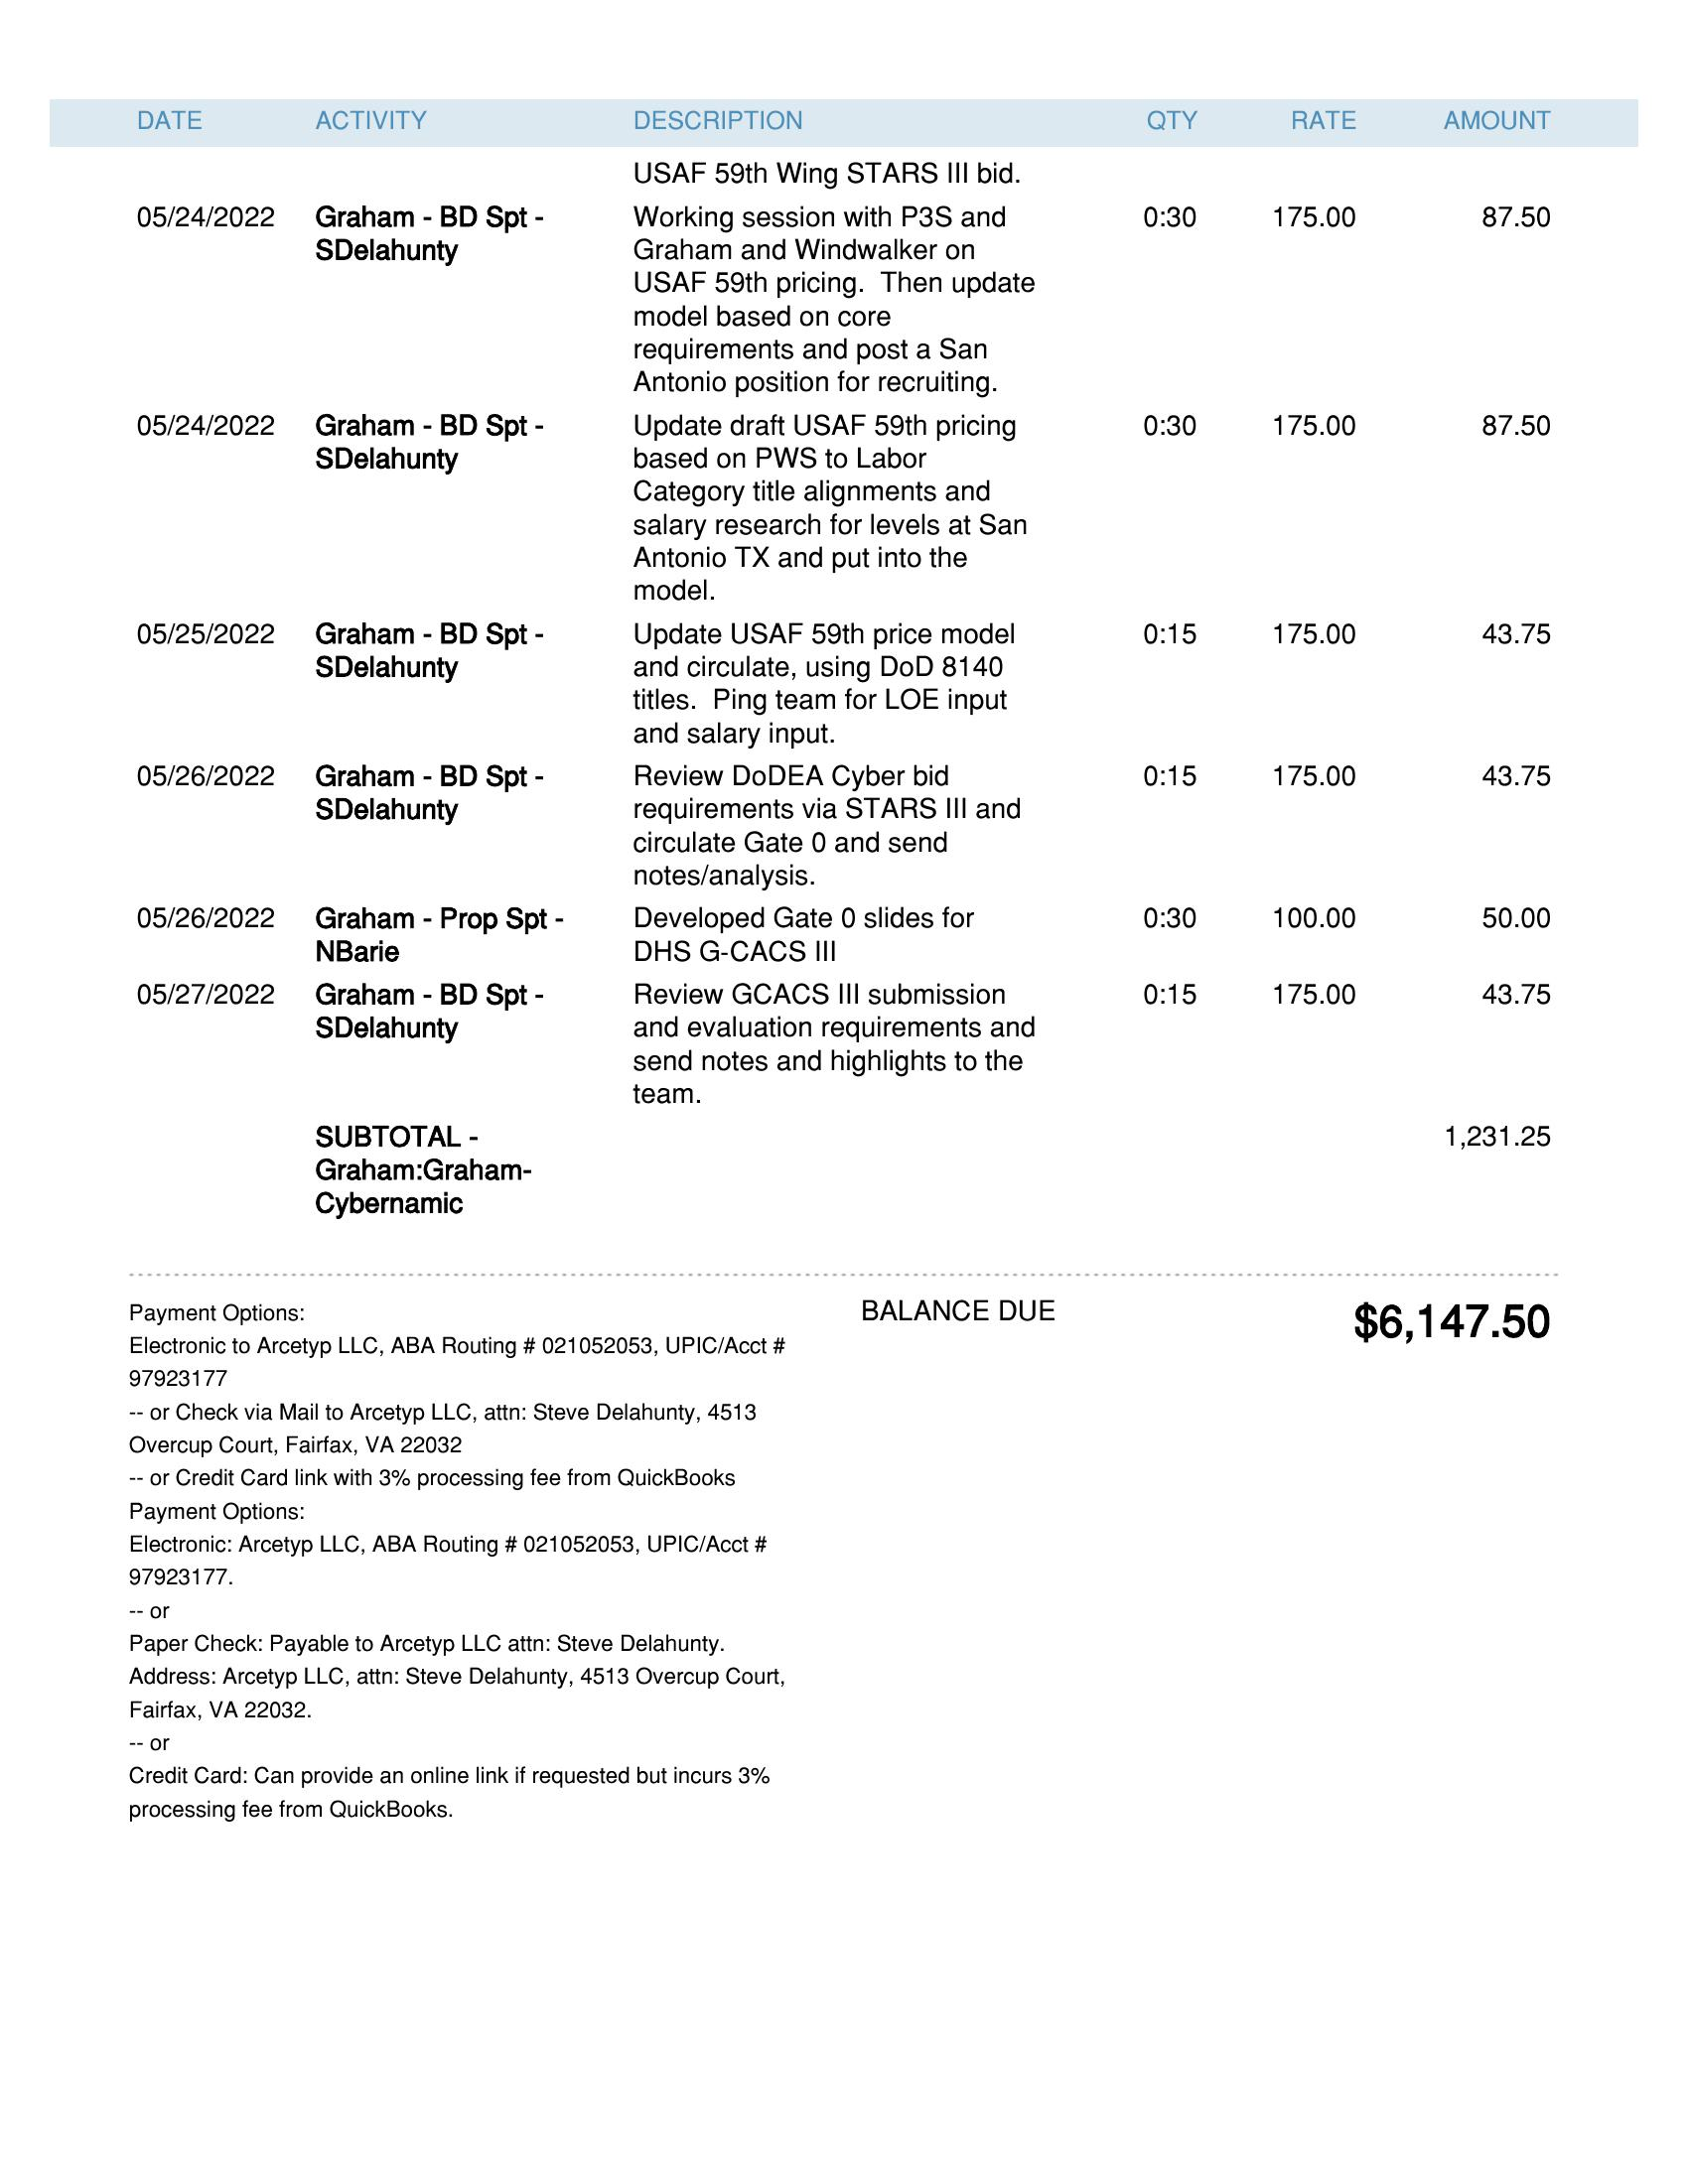table: (41, 87, 1622, 1273)
